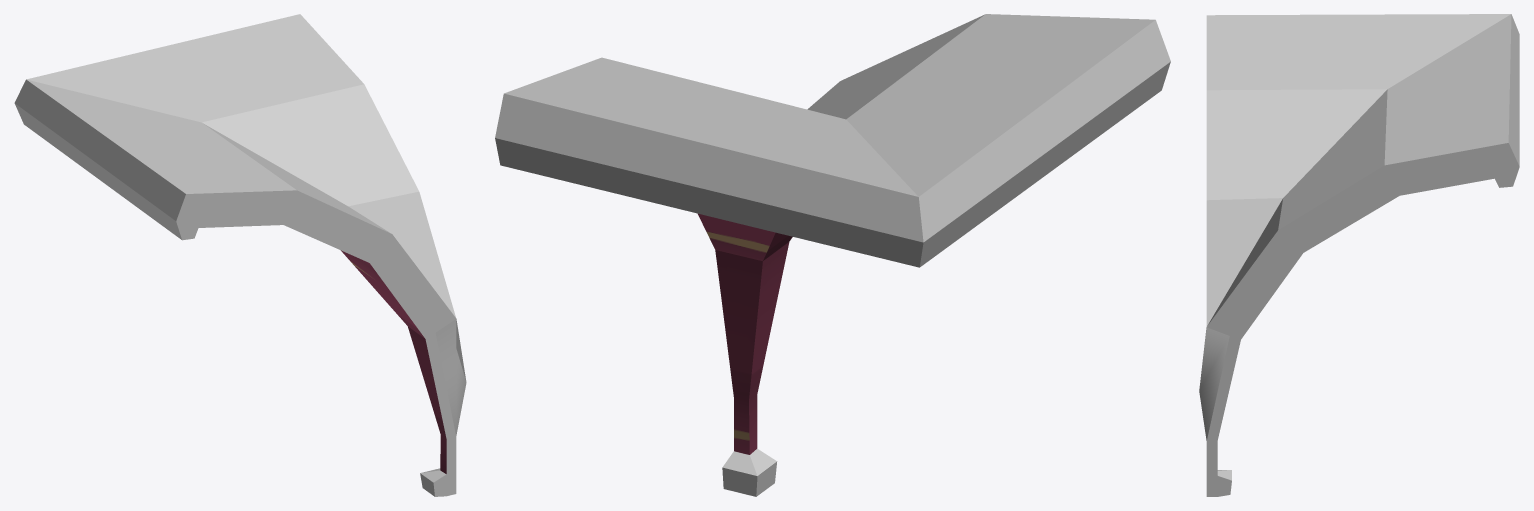
File: SM_Bld_Roof_S_Convex_Corner_In_01.fbx
3 views of the same model, side by side, from view 1: azimuth 30°, elevation 25°; view 2: azimuth 150°, elevation 25°; view 3: azimuth 270°, elevation 25° (orthographic). The views are drawn at different scales.
Parts seen in each view (by area): view 1: SM_Bld_Roof_S_Convex_Corner_In_01; view 2: SM_Bld_Roof_S_Convex_Corner_In_01; view 3: SM_Bld_Roof_S_Convex_Corner_In_01.
Part boxes in pixels (x1,y1,x2,y2): SM_Bld_Roof_S_Convex_Corner_In_01: (14, 14, 466, 496); SM_Bld_Roof_S_Convex_Corner_In_01: (495, 14, 1170, 496); SM_Bld_Roof_S_Convex_Corner_In_01: (1199, 14, 1519, 496).
Size of the model in its own units: 131 by 160 by 131.
